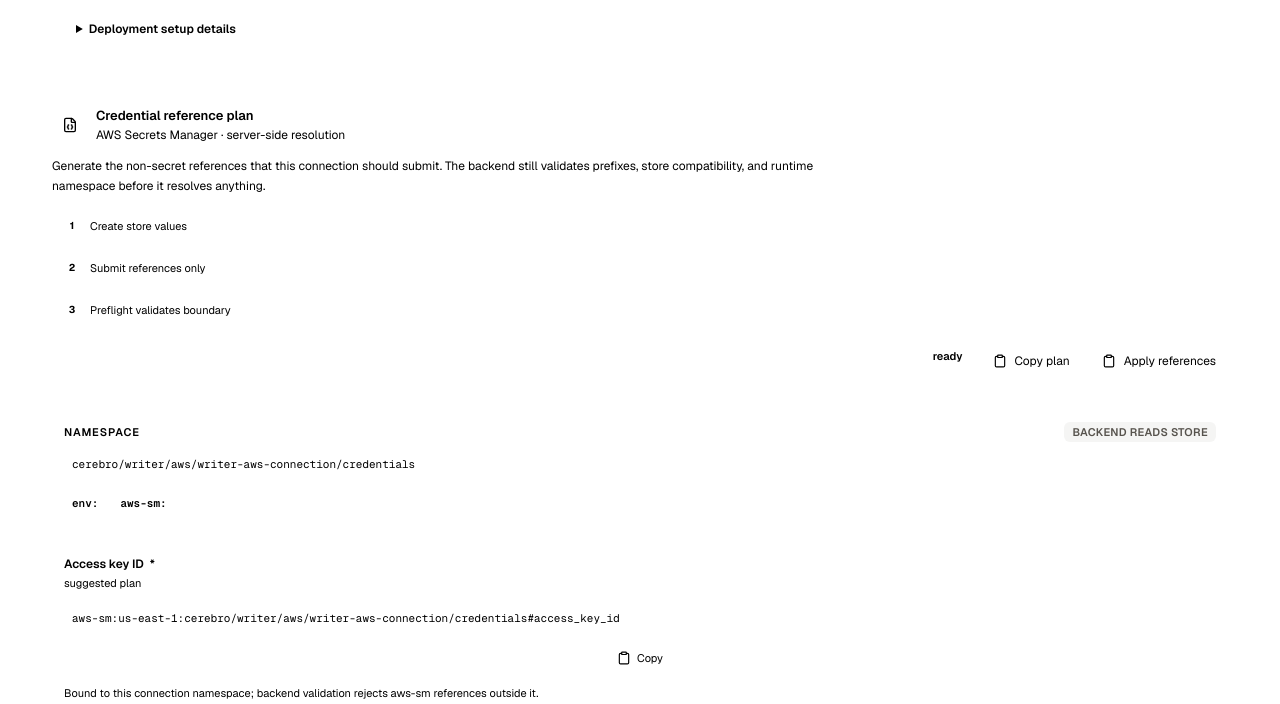
Test: ConnectorSetupForm › applies generated AWS Secrets Manager references to credential fields
The image size is (1280, 704).
(page scrolled)
Click the button "Apply references". click: (1159, 360)
box: [1090,344,1228,378]
(page scrolled)
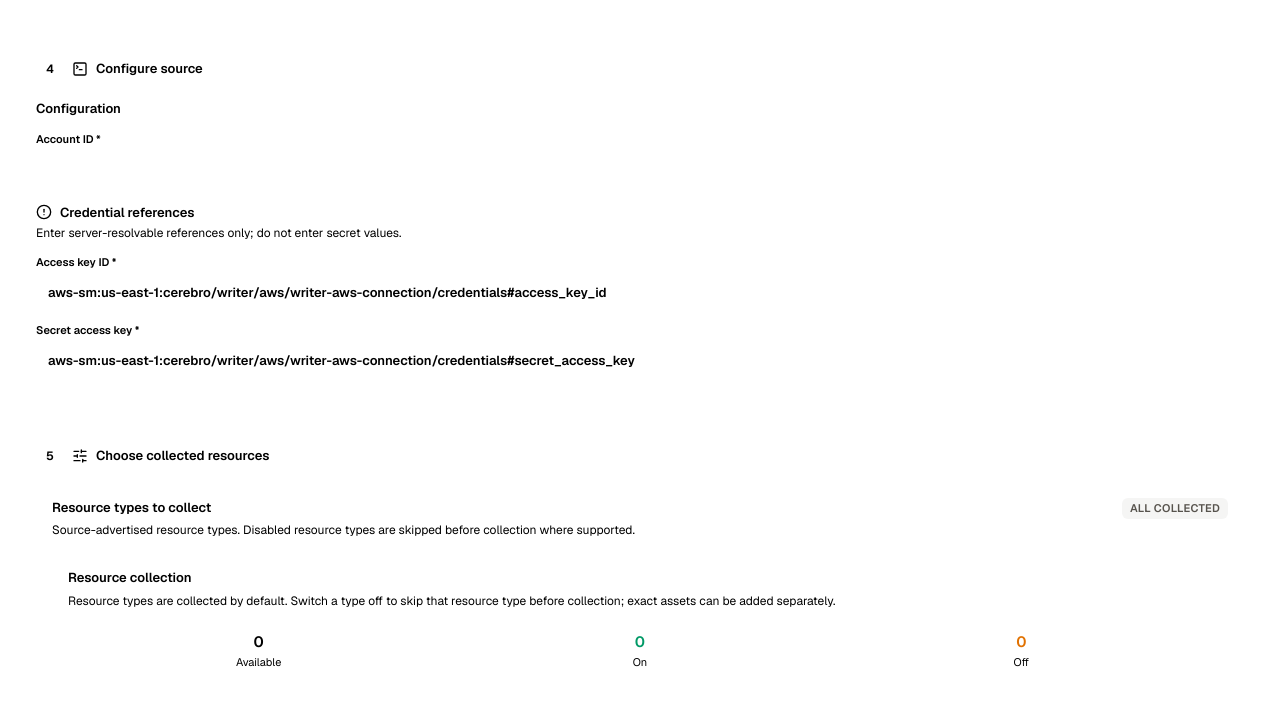
expect the field named "credential:access_key_id" holds "aws-sm:us-east-1:cerebro/writer/aws/writer-aws-connection/credentials#access_key_id": met, box [36,274,1244,310]
expect the field named "credential:secret_access_key" holds "aws-sm:us-east-1:cerebro/writer/aws/writer-aws-connection/credentials#secret_access_key": met, box [36,342,1244,378]
